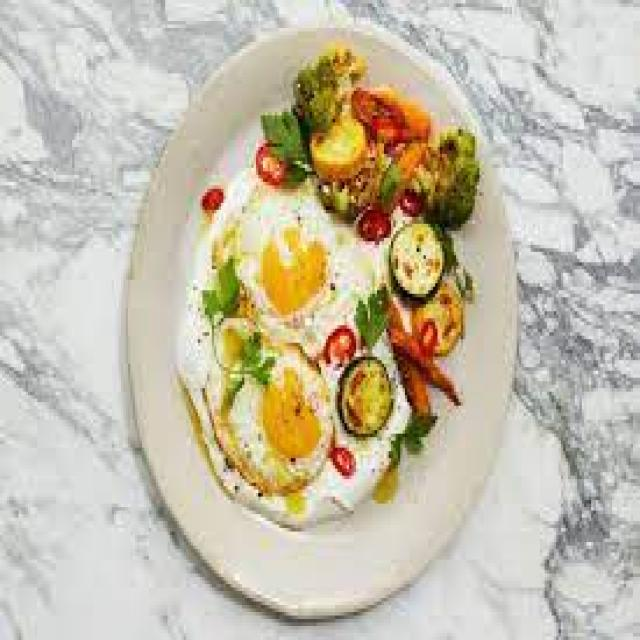Egg: (211, 173, 379, 356), (205, 257, 330, 494)
